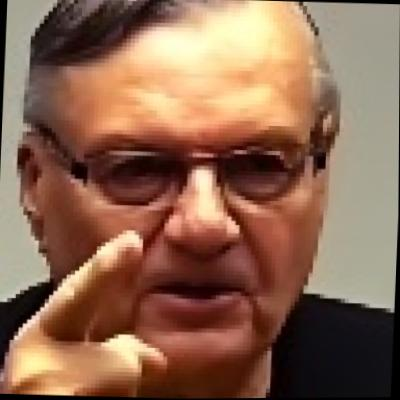angry: (44, 8, 329, 369)
